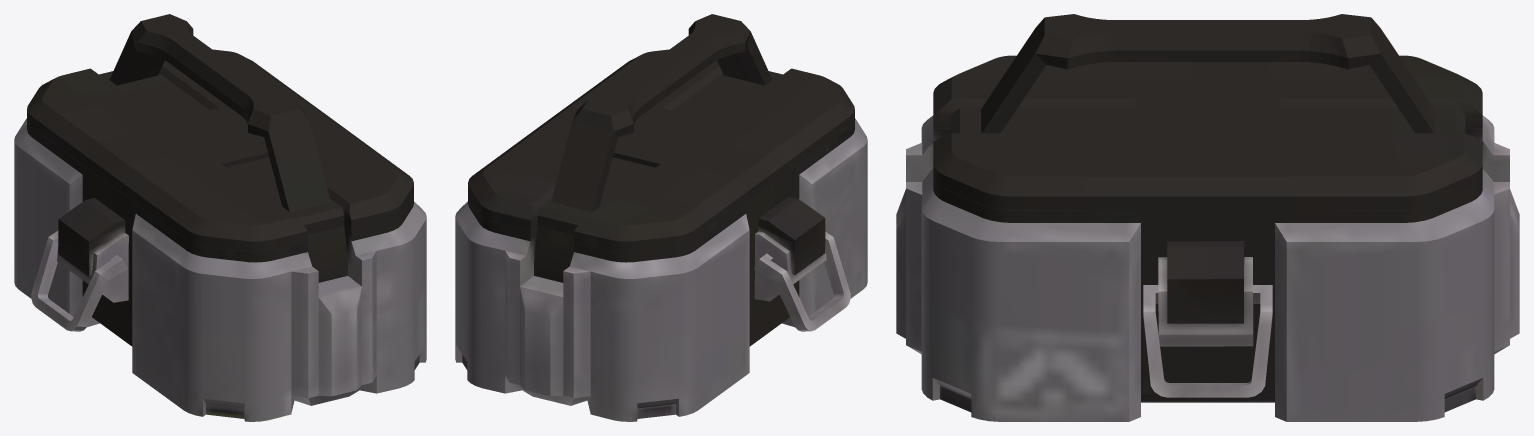
The model's file is Ammo Closed.glb.
The picture shows the model from 3 angles, left to right: view 1: azimuth 30°, elevation 25°; view 2: azimuth 150°, elevation 25°; view 3: azimuth 270°, elevation 25°; orthographic projection. The views are drawn at different scales.
Visible parts, largest first — view 1: Prop_Ammo_Closed; view 2: Prop_Ammo_Closed; view 3: Prop_Ammo_Closed.
Part boxes in pixels (x1,y1,x2,y2): Prop_Ammo_Closed: (14, 14, 426, 421); Prop_Ammo_Closed: (455, 14, 867, 421); Prop_Ammo_Closed: (896, 14, 1519, 421).
Bounding box in the file's own units: 0.5707 × 0.4122 × 0.7229.
1 material, 1 textured.
